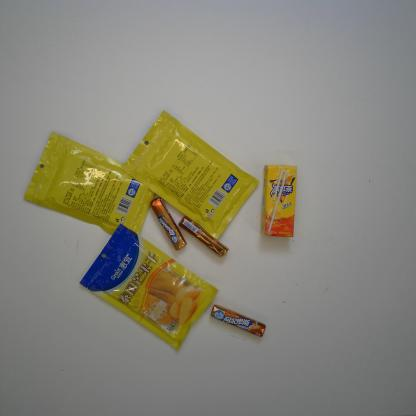Candy: (177, 214, 229, 258), (149, 194, 188, 252), (209, 302, 267, 340)
Dried Fruit: (120, 108, 265, 244), (77, 219, 219, 352), (22, 130, 164, 243)
Drink: (262, 163, 298, 239)
